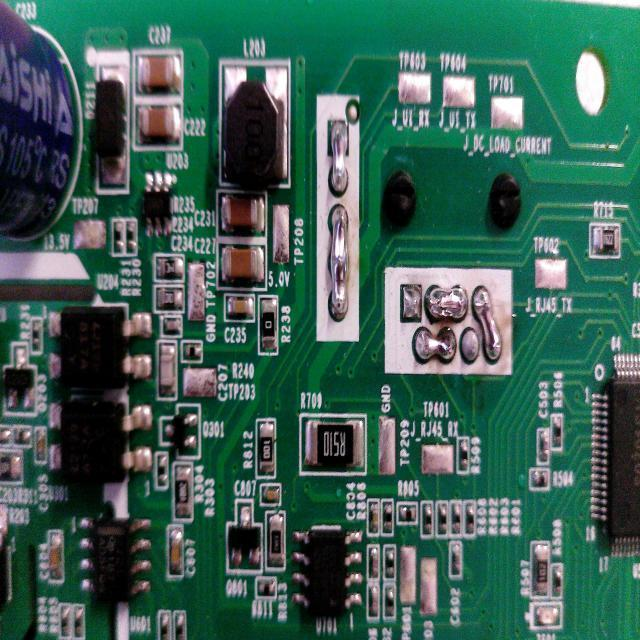Soldering shorted: (322, 201, 357, 321), (470, 286, 506, 368), (412, 322, 459, 369), (326, 119, 352, 194), (426, 278, 468, 323)
